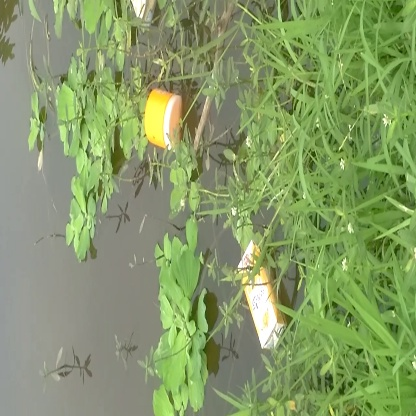bottle: (142, 85, 189, 153)
milk-box: (230, 238, 295, 353)
